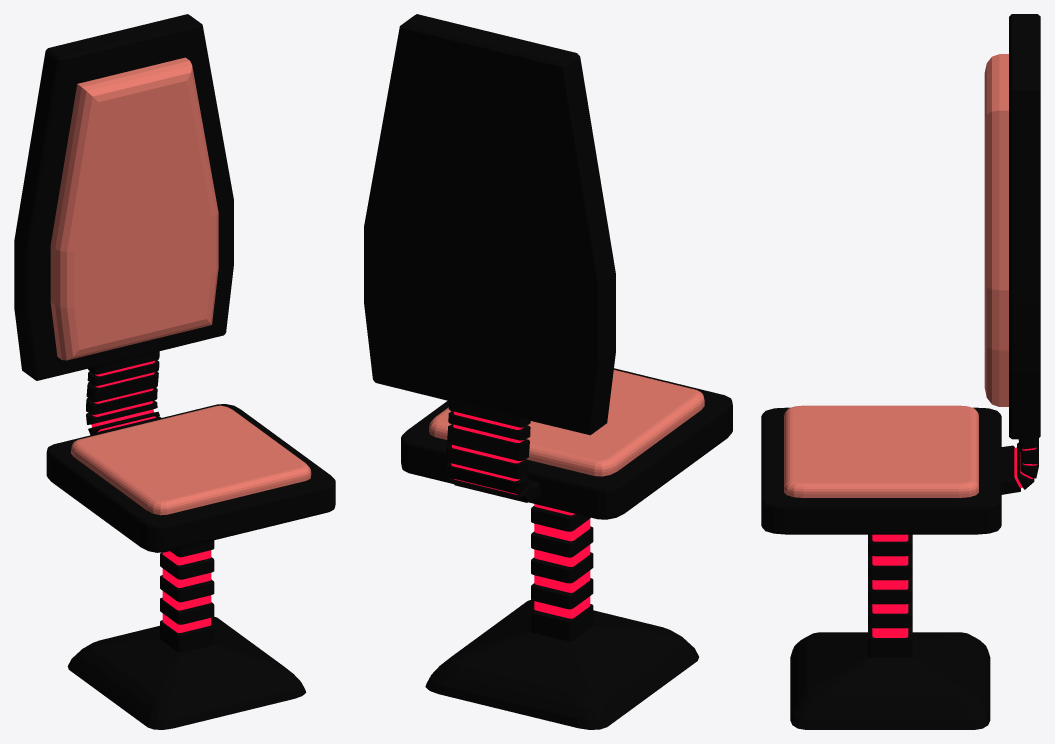
The model's file is FBX_Chaise.fbx.
3 views of the same model, side by side, from view 1: azimuth 30°, elevation 25°; view 2: azimuth 150°, elevation 25°; view 3: azimuth 270°, elevation 25° (orthographic). The views are drawn at different scales.
Parts seen in each view (by area): view 1: Cube.001; view 2: Cube.001; view 3: Cube.001.
Part boxes in pixels (x1,y1,x2,y2): Cube.001: [14, 14, 335, 729]; Cube.001: [364, 14, 732, 729]; Cube.001: [761, 14, 1040, 729].
Bounding box in the file's own units: 108 × 297 × 118.
